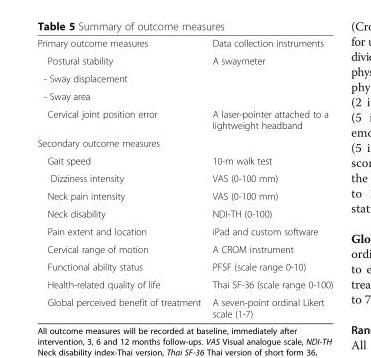table: (36, 37, 332, 318)
table column: (36, 37, 205, 318), (205, 37, 332, 318)
table projected row header: (36, 86, 332, 104), (36, 133, 332, 151), (36, 69, 332, 86)
table row: (36, 104, 332, 133), (36, 293, 332, 318), (36, 51, 332, 69), (36, 86, 332, 104), (36, 133, 332, 151), (36, 151, 332, 169), (36, 186, 332, 204), (36, 204, 332, 222), (36, 239, 332, 257), (36, 257, 332, 275), (36, 275, 332, 293), (36, 69, 332, 86), (36, 169, 332, 186), (36, 222, 332, 239), (36, 37, 332, 51)
